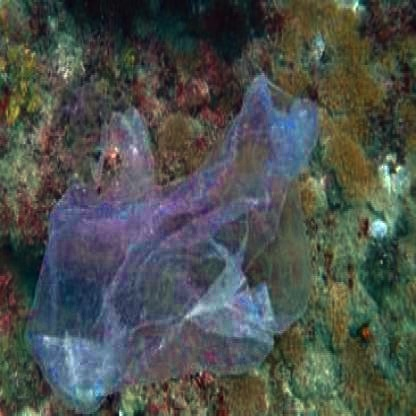plastic: (43, 102, 316, 386)
